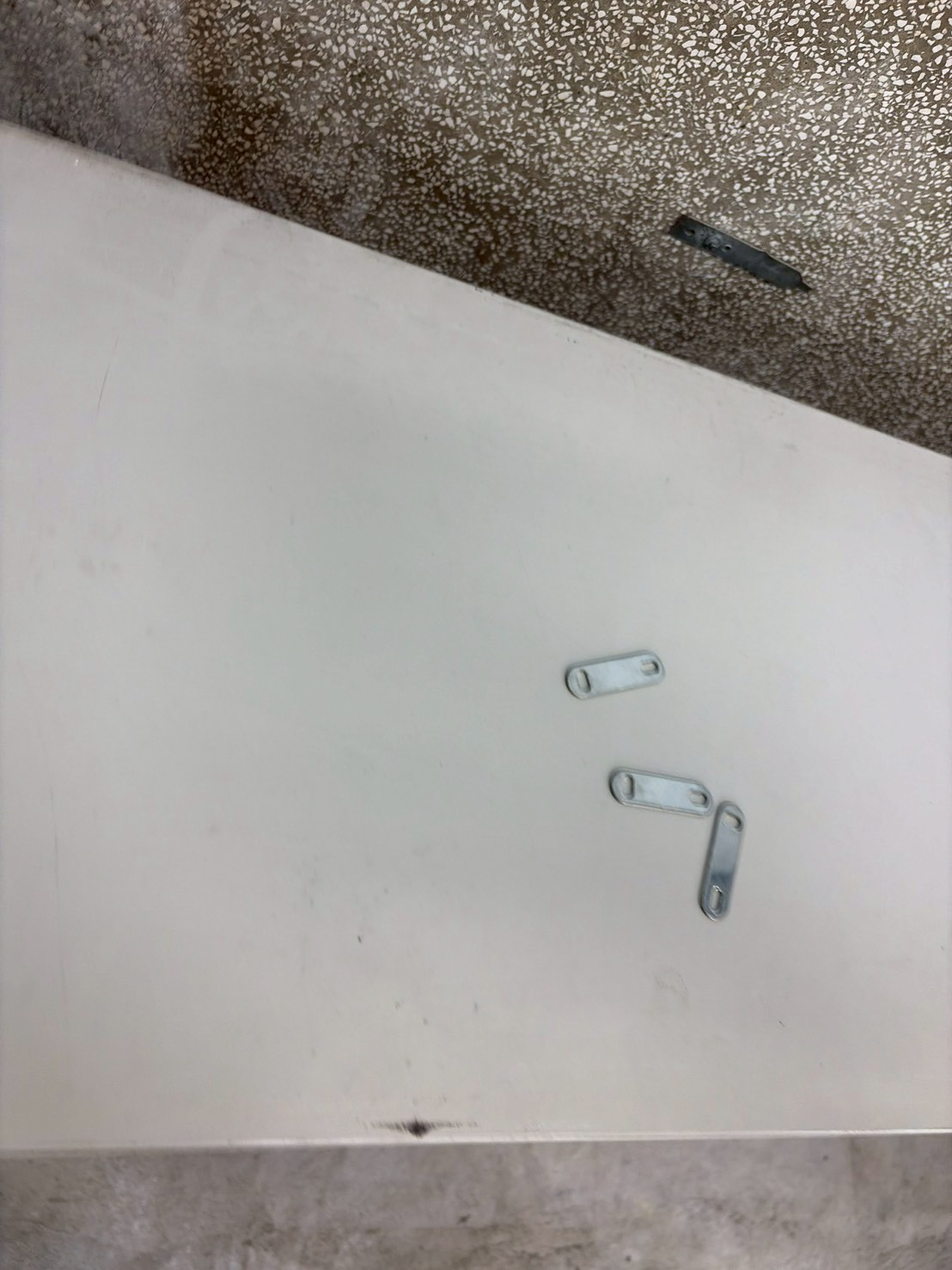Fe: (692, 802, 759, 932), (558, 638, 669, 709), (593, 756, 708, 820)
